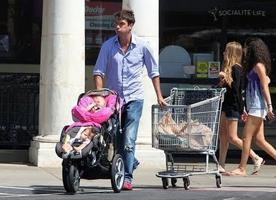person: (92, 10, 168, 191)
